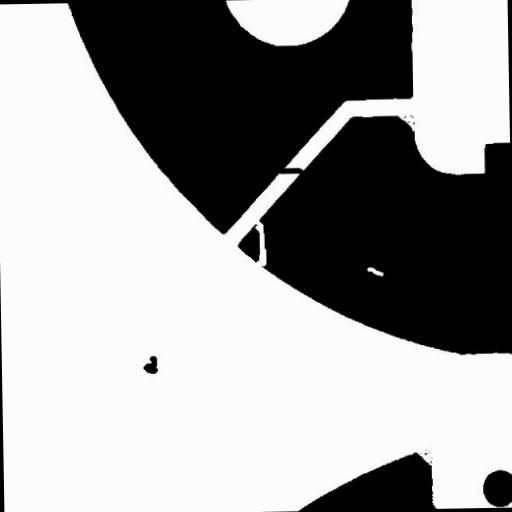copper: (136, 348, 166, 382)
mousebite: (408, 432, 442, 474), (390, 102, 424, 140)
open: (246, 212, 274, 274)
pin-hole: (360, 259, 391, 284)
short: (270, 160, 310, 182)
